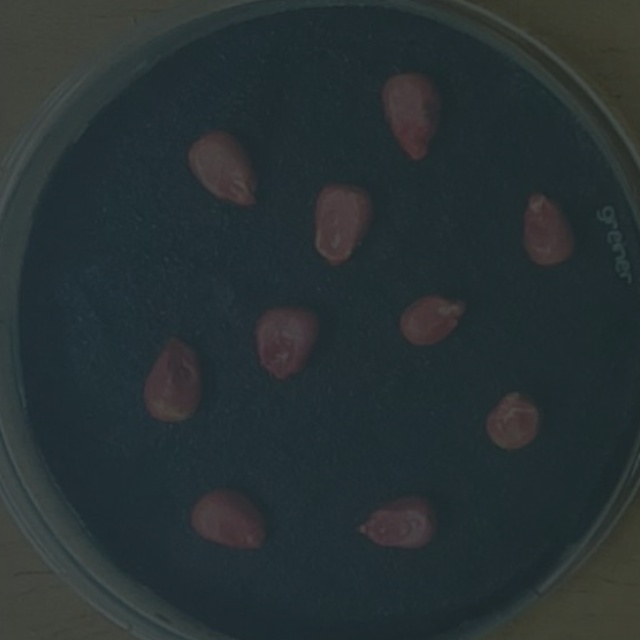Zea mays: (374, 61, 453, 169), (180, 476, 278, 559), (246, 295, 330, 390), (303, 172, 382, 272), (180, 120, 264, 214), (137, 324, 209, 429), (348, 485, 443, 557), (515, 181, 583, 272), (392, 283, 474, 352), (481, 380, 548, 454)
